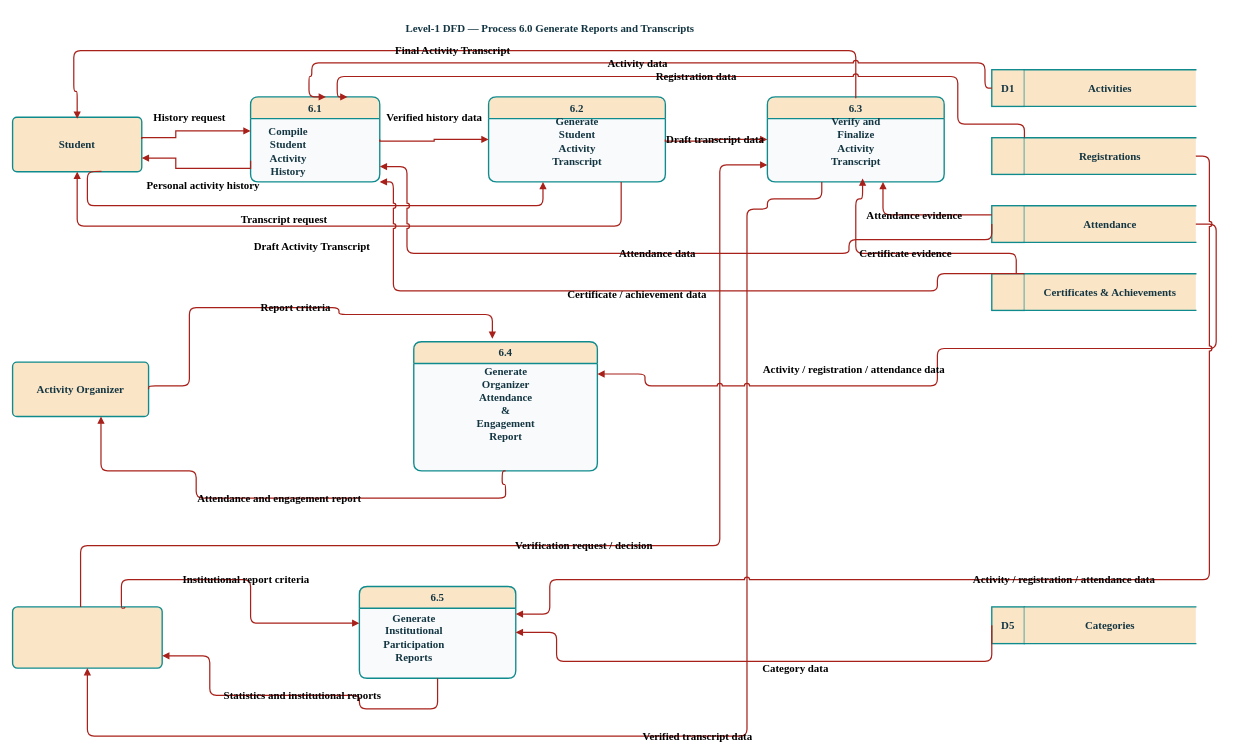
Image size: 1234x754. Some labels were removed from this diagram. The shapes that lost their labels are listed below. From the top down, each one's centre as x and y in pixels, then its label:
At (x=1008, y=156): "D2".
At (x=1008, y=224): "D3".
At (x=1008, y=292): "D4".
At (x=87, y=637): "Student Affairs Department".
